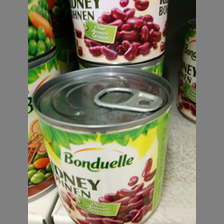beans: (33, 66, 174, 224)
